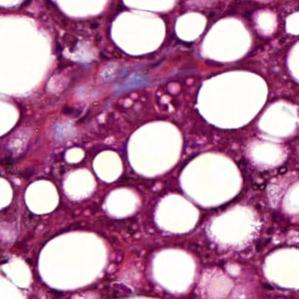steatosis: (37, 229, 113, 289), (197, 68, 269, 129), (125, 120, 185, 175), (105, 12, 170, 56), (24, 178, 65, 216)
